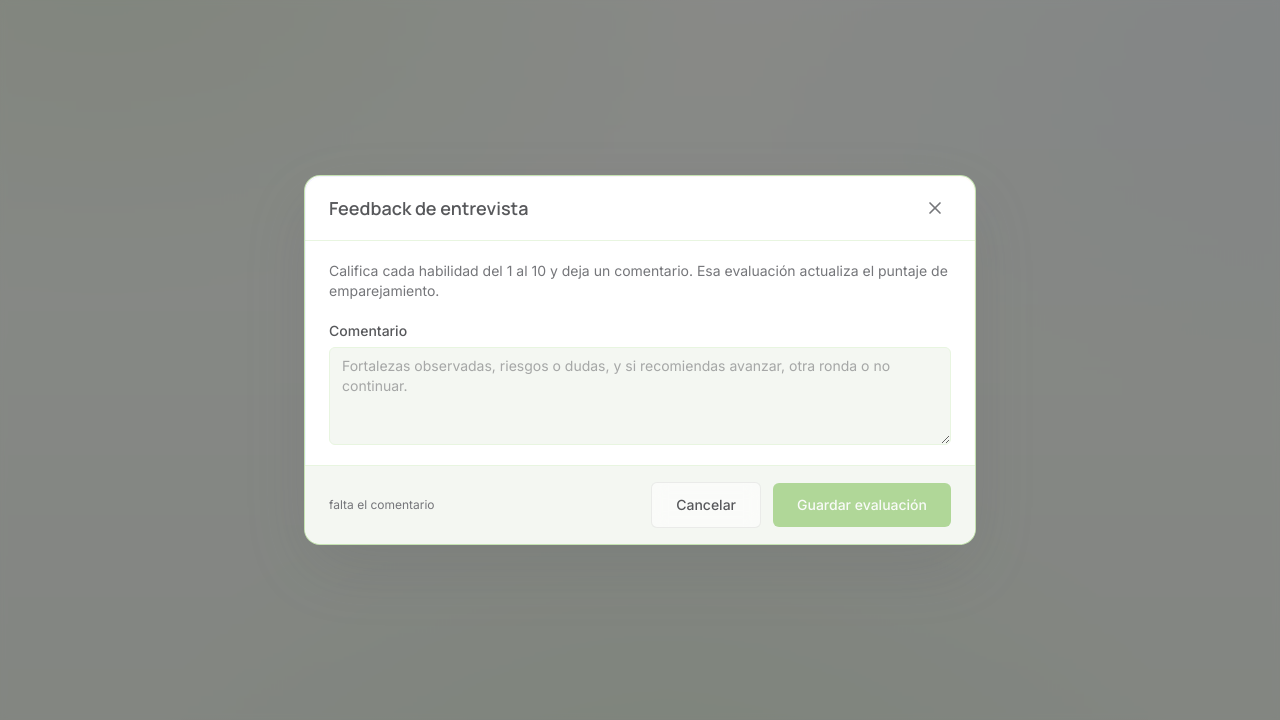
Scenario: InterviewFeedbackModal › loads the form on open and keeps the modal open after a successful submit
Step 1. Replace the text in the text box labelled "Comentario" with "Buena comunicación" → (640, 396), box [329,347,951,445]
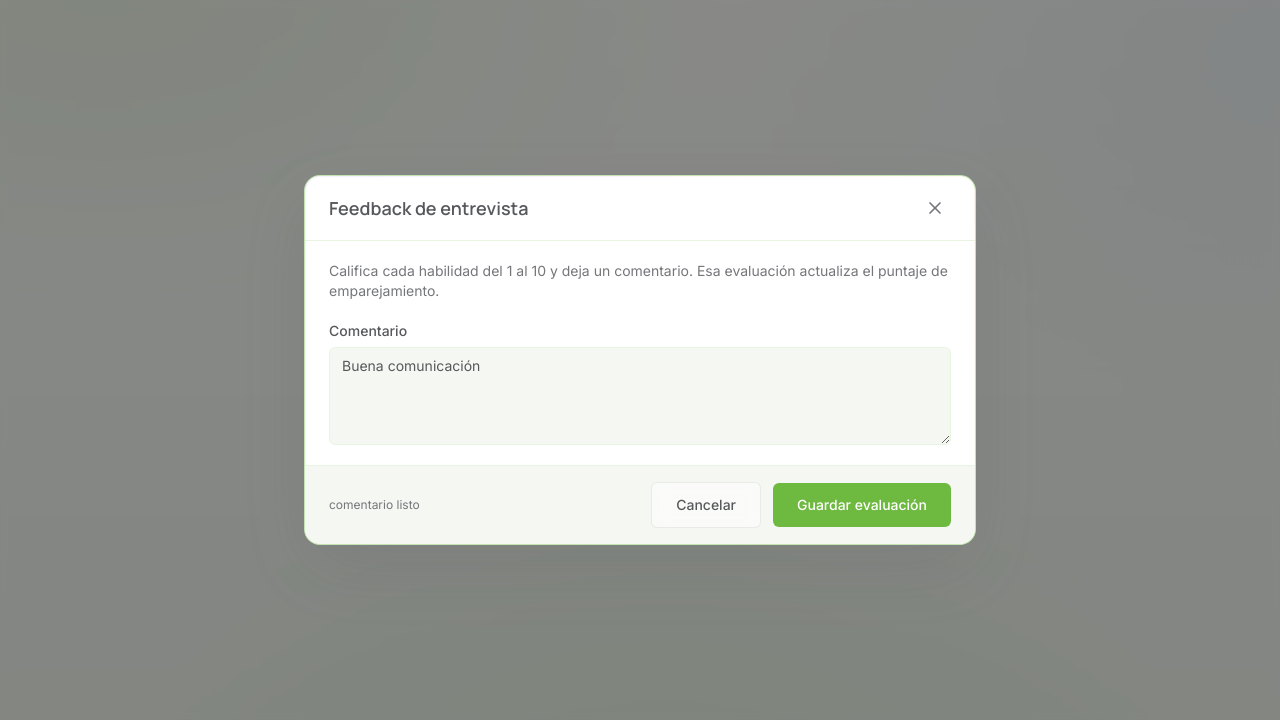
Step 2. Click the button "Guardar evaluación" → click(862, 505), box [773,483,951,527]
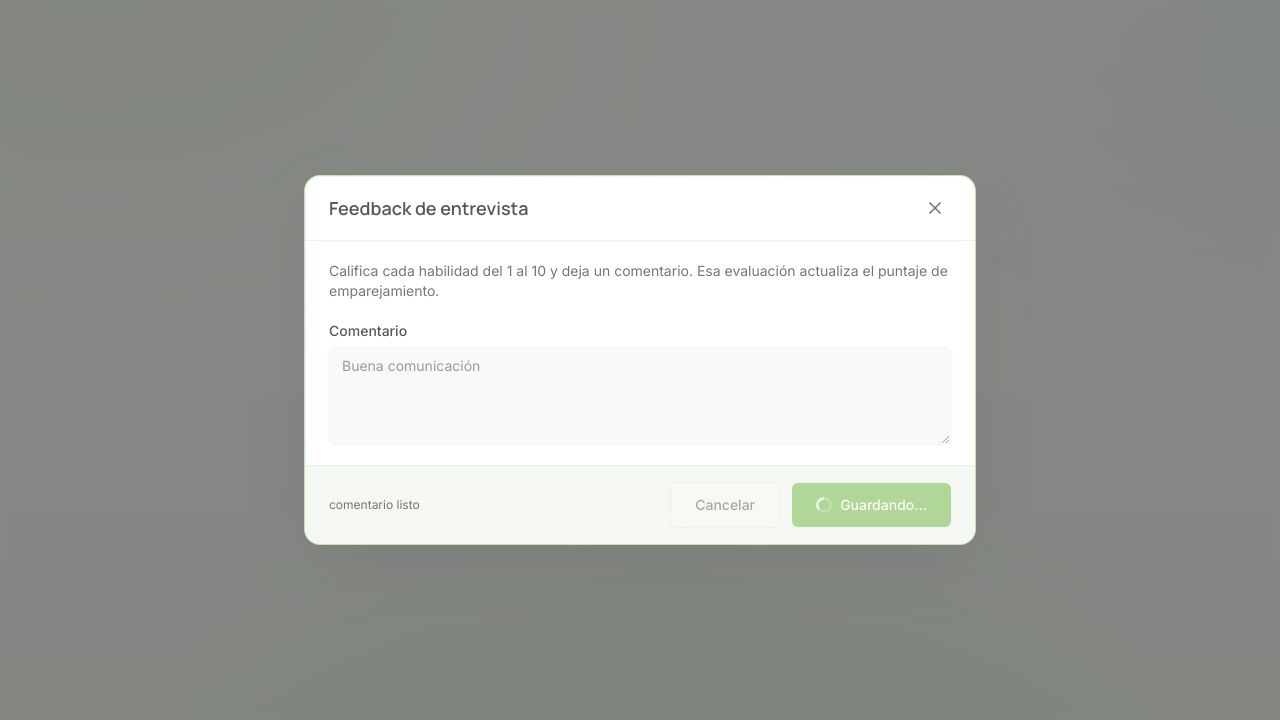
Step 3. Click the button named "Guardar evaluación" → click(872, 505), box [792,483,951,527]
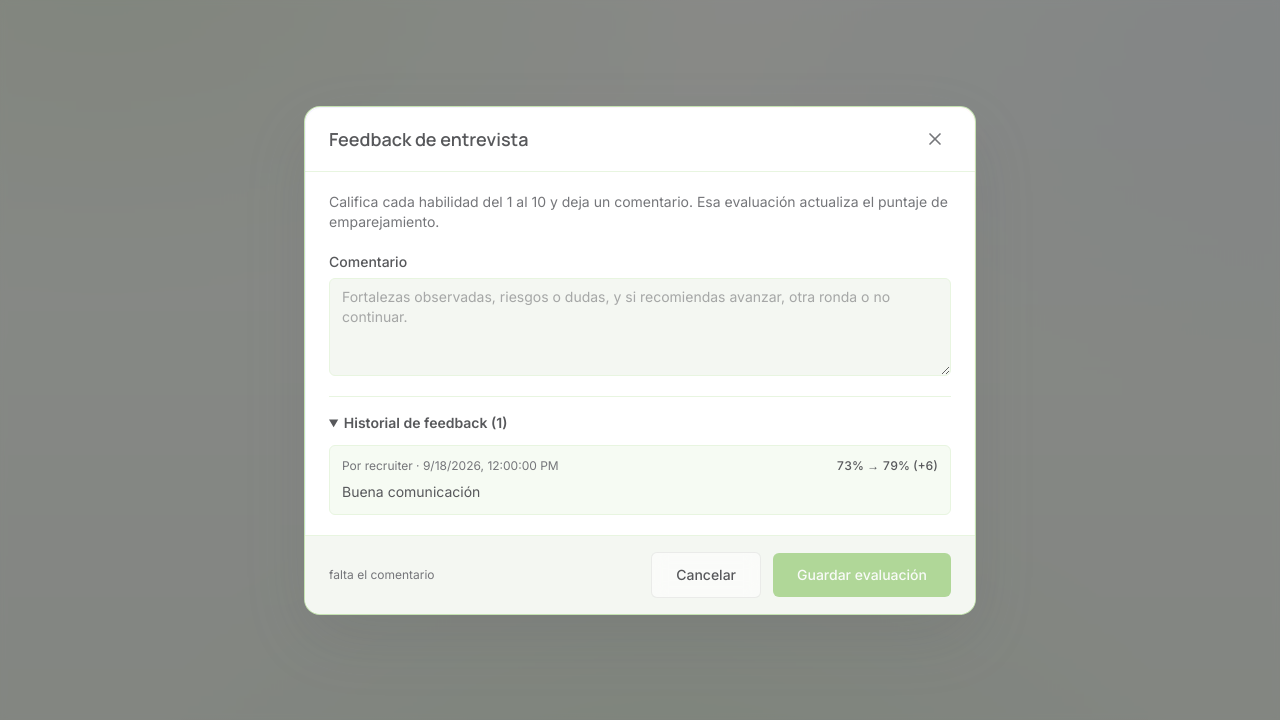
Now the button named "Guardando…" is disabled, box [773,552,951,596]
Now the heading "Historial de feedback (1)" is shown, box [344,414,507,430]
